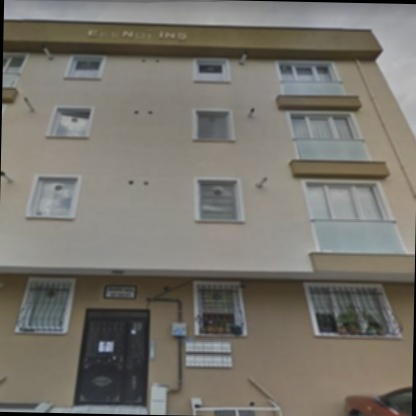door: (77, 319, 147, 405)
